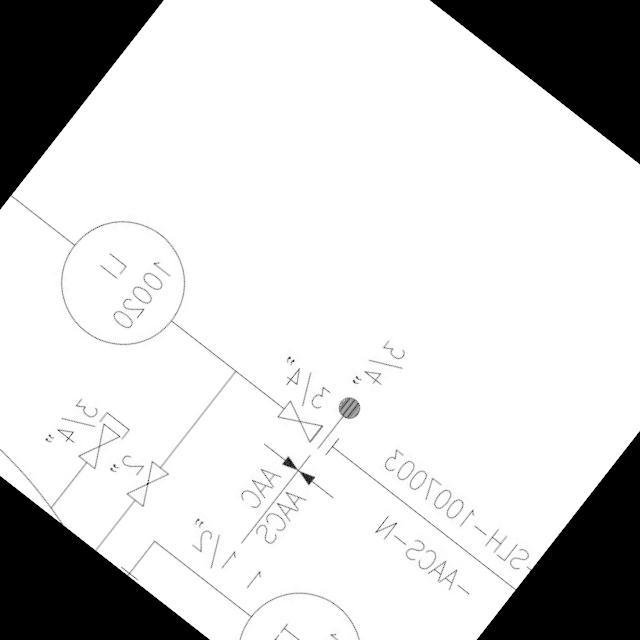EC: (51, 403, 137, 498)
GV: (272, 394, 328, 446), (122, 455, 173, 510), (74, 418, 124, 471)
